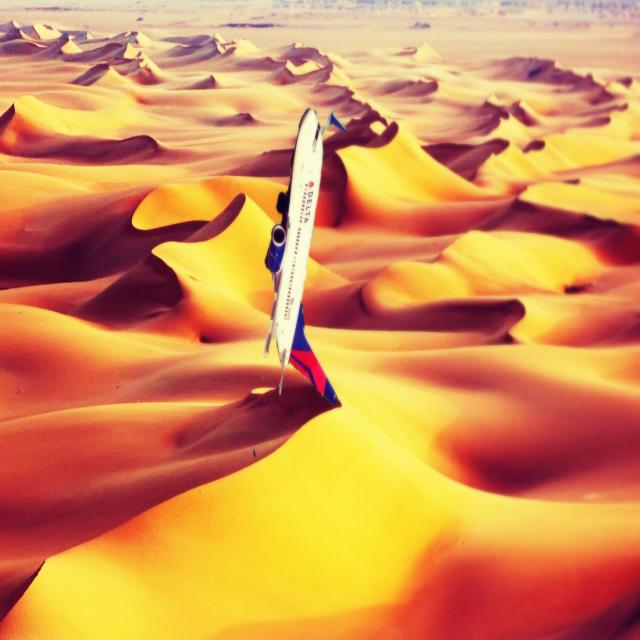airplane: (263, 106, 346, 407)
